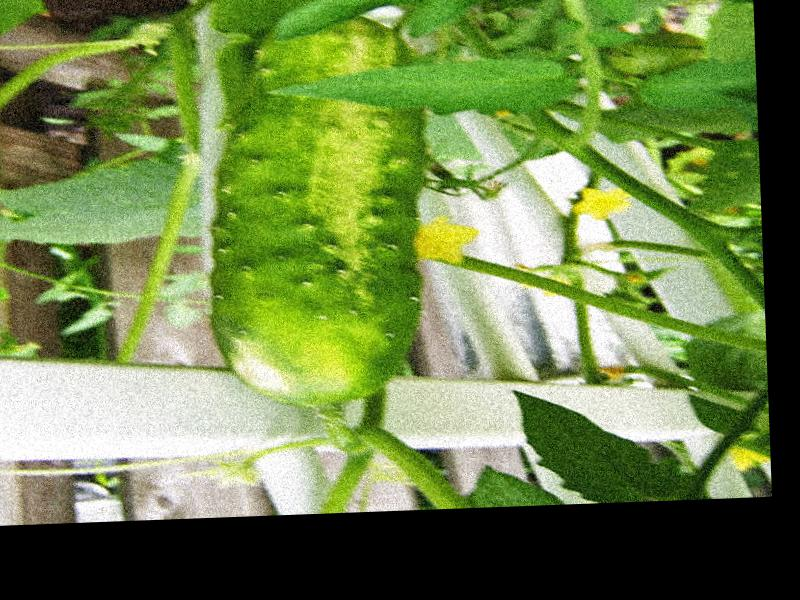Cucumber: (203, 18, 426, 410)
